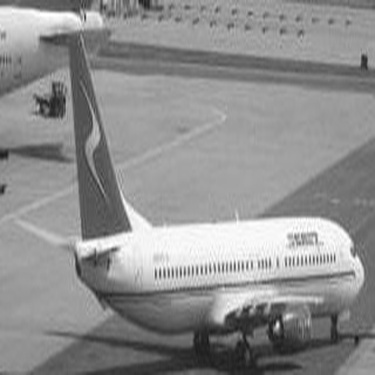airplane: (47, 28, 368, 372), (2, 1, 111, 113)
